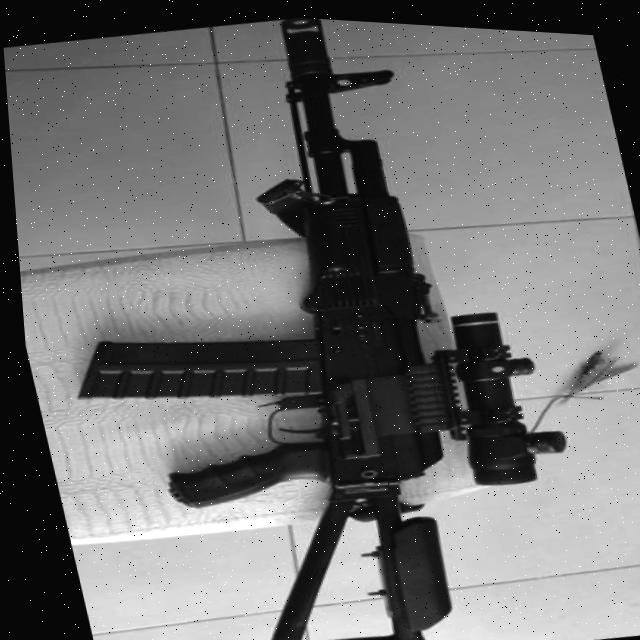firearm: (0, 0, 605, 640)
